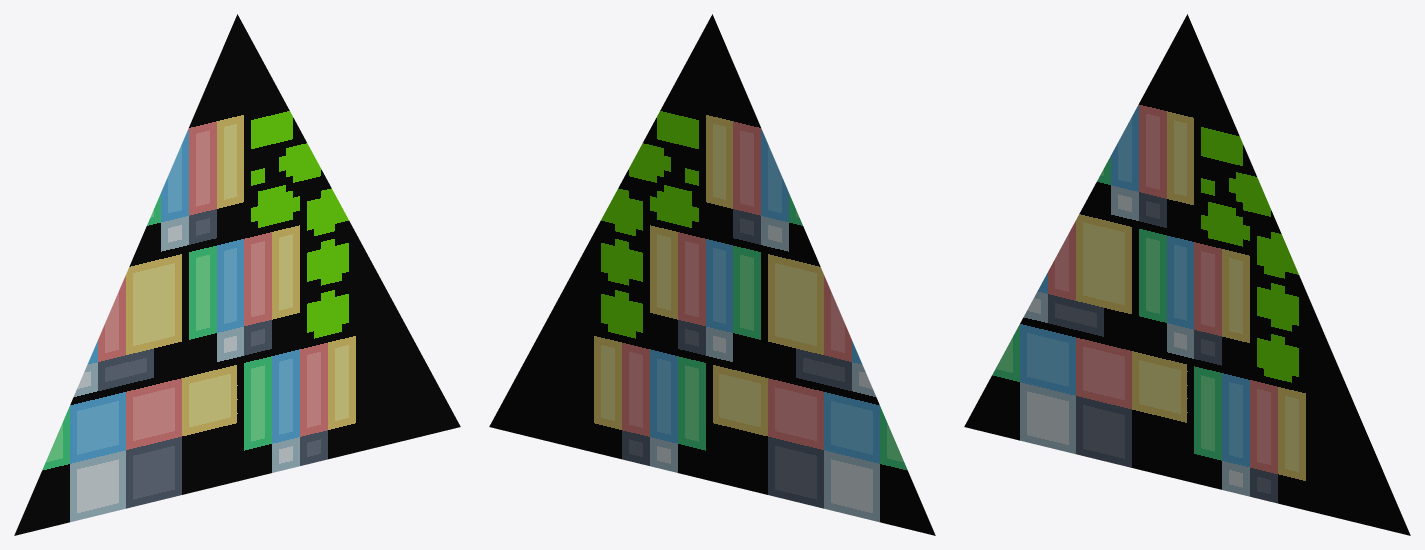
The model's file is depth_motion_gltf.gltf.
The picture shows the model from 3 angles, left to right: view 1: azimuth 30°, elevation 25°; view 2: azimuth 150°, elevation 25°; view 3: azimuth 330°, elevation 25°; orthographic projection.
Visible parts, largest first — view 1: body; view 2: body; view 3: body.
Part boxes in pixels (box(x1,y1,x2,y2)): body: box(14, 14, 460, 535); body: box(489, 14, 935, 535); body: box(964, 14, 1410, 535).
Size of the model in its own units: 0.2 by 0.2 by 0.
1 material, 1 textured.
